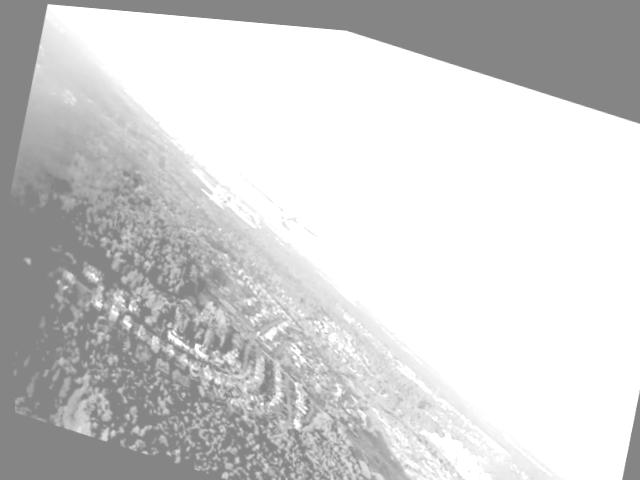hedef: (218, 155, 359, 260)
